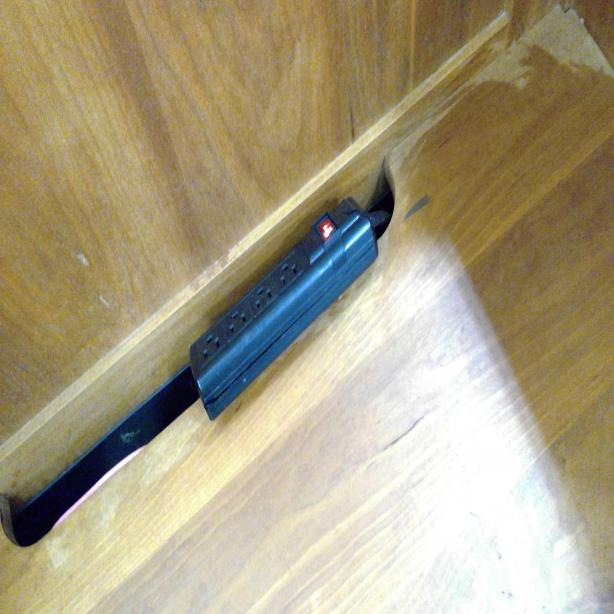typeb: (195, 327, 224, 360), (252, 280, 276, 316), (276, 256, 300, 288), (224, 305, 248, 337)
